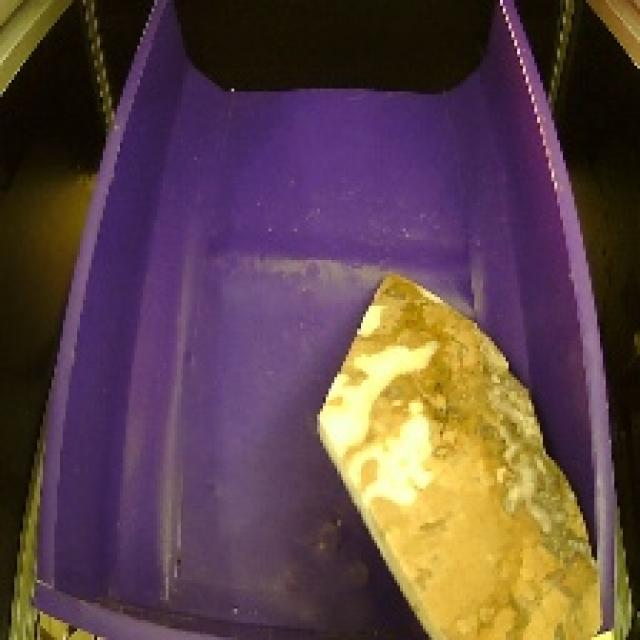china: (306, 257, 611, 640)
